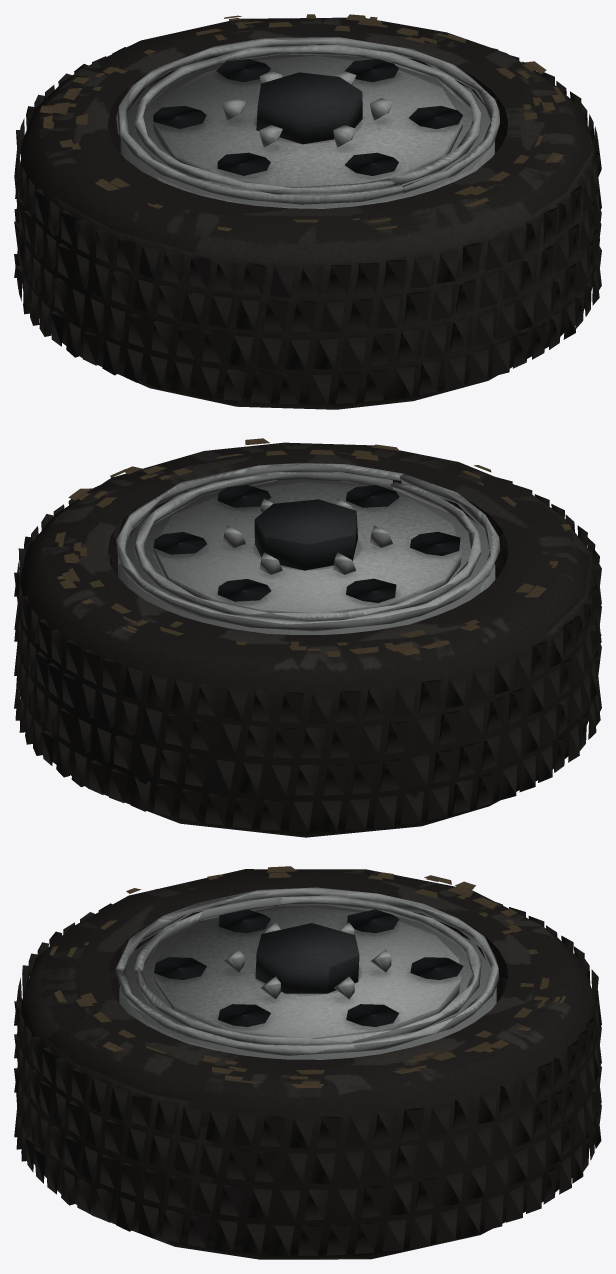
Rendered from pickup_wheel_front_left.obj.
3 views of the same model, one above another, from view 1: azimuth 30°, elevation 25°; view 2: azimuth 150°, elevation 25°; view 3: azimuth 270°, elevation 25° (orthographic).
Parts seen in each view (by area): view 1: PIECE_L6_wheel_1.53_1; view 2: PIECE_L6_wheel_1.53_1; view 3: PIECE_L6_wheel_1.53_1.
Part boxes in pixels (x1,y1,x2,y2): PIECE_L6_wheel_1.53_1: (14,14,601,409); PIECE_L6_wheel_1.53_1: (14,438,601,837); PIECE_L6_wheel_1.53_1: (14,866,601,1259).
Bounding box in the file's own units: 0.72 × 0.2804 × 0.72.
Materials: 1 (1 with a texture image).
